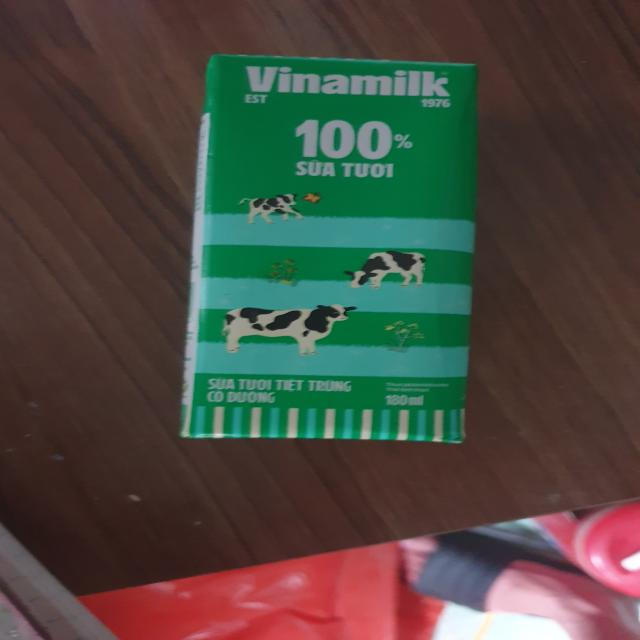Vina: (173, 47, 491, 449)
